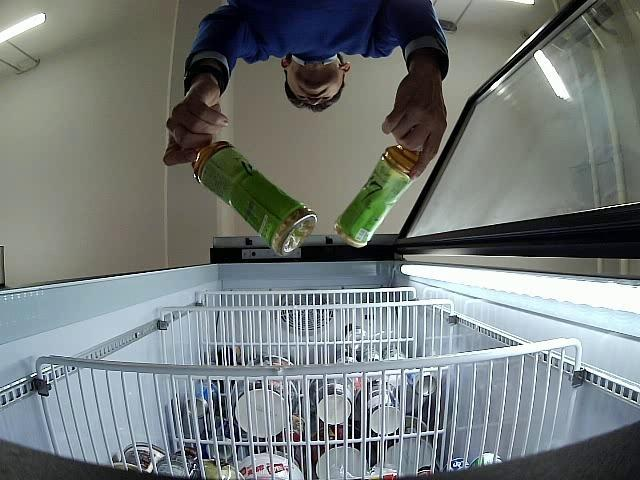19_17cha: (193, 142, 317, 256), (332, 144, 416, 248)
